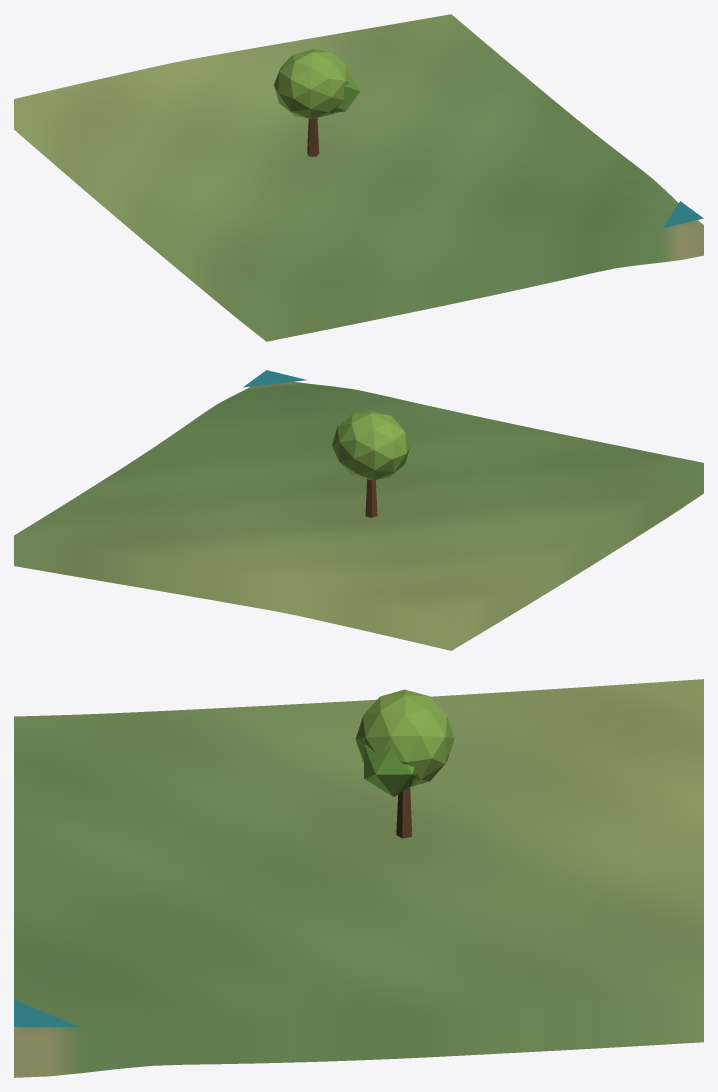
3 views of the same model, one above another, from view 1: azimuth 30°, elevation 25°; view 2: azimuth 150°, elevation 25°; view 3: azimuth 270°, elevation 25° (orthographic). The views are drawn at different scales.
Parts seen in each view (by area): view 1: terrain, scenery; view 2: terrain, scenery; view 3: terrain, scenery.
Boxes of the visible parts, <box> form: terrain: <box>14,14,703,341</box>; scenery: <box>274,49,703,228</box>; terrain: <box>14,381,703,650</box>; scenery: <box>243,370,410,517</box>; terrain: <box>14,679,703,1077</box>; scenery: <box>14,689,454,1026</box>.
Size of the model in its own units: 30 by 10.43 by 30.
